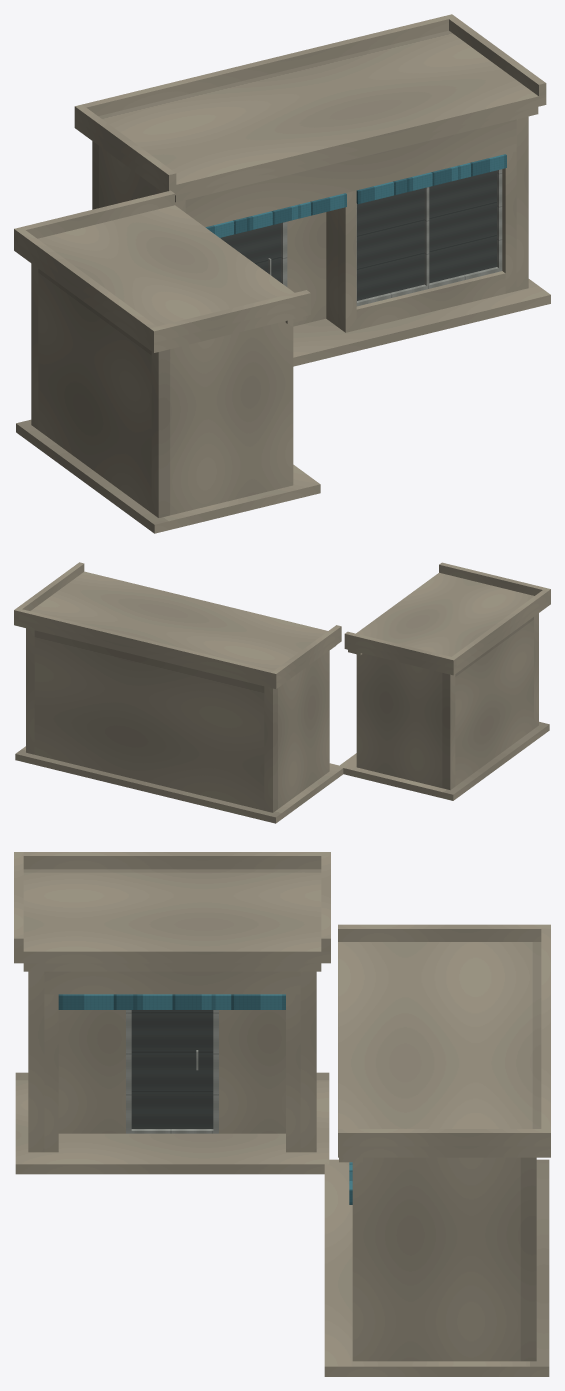
Rendered from dhaka.glb.
3 views of the same model, one above another, from view 1: azimuth 30°, elevation 25°; view 2: azimuth 150°, elevation 25°; view 3: azimuth 270°, elevation 25° (orthographic). The views are drawn at different scales.
Visible parts, largest first — view 1: dhaka; view 2: dhaka; view 3: dhaka.
Part boxes in pixels (x1,y1,x2,y2): dhaka: (14,14,550,533); dhaka: (14,562,550,823); dhaka: (14,852,550,1376).
Bounding box in the file's own units: 7.95 × 3.06 × 6.1.
1 material, 1 textured.
